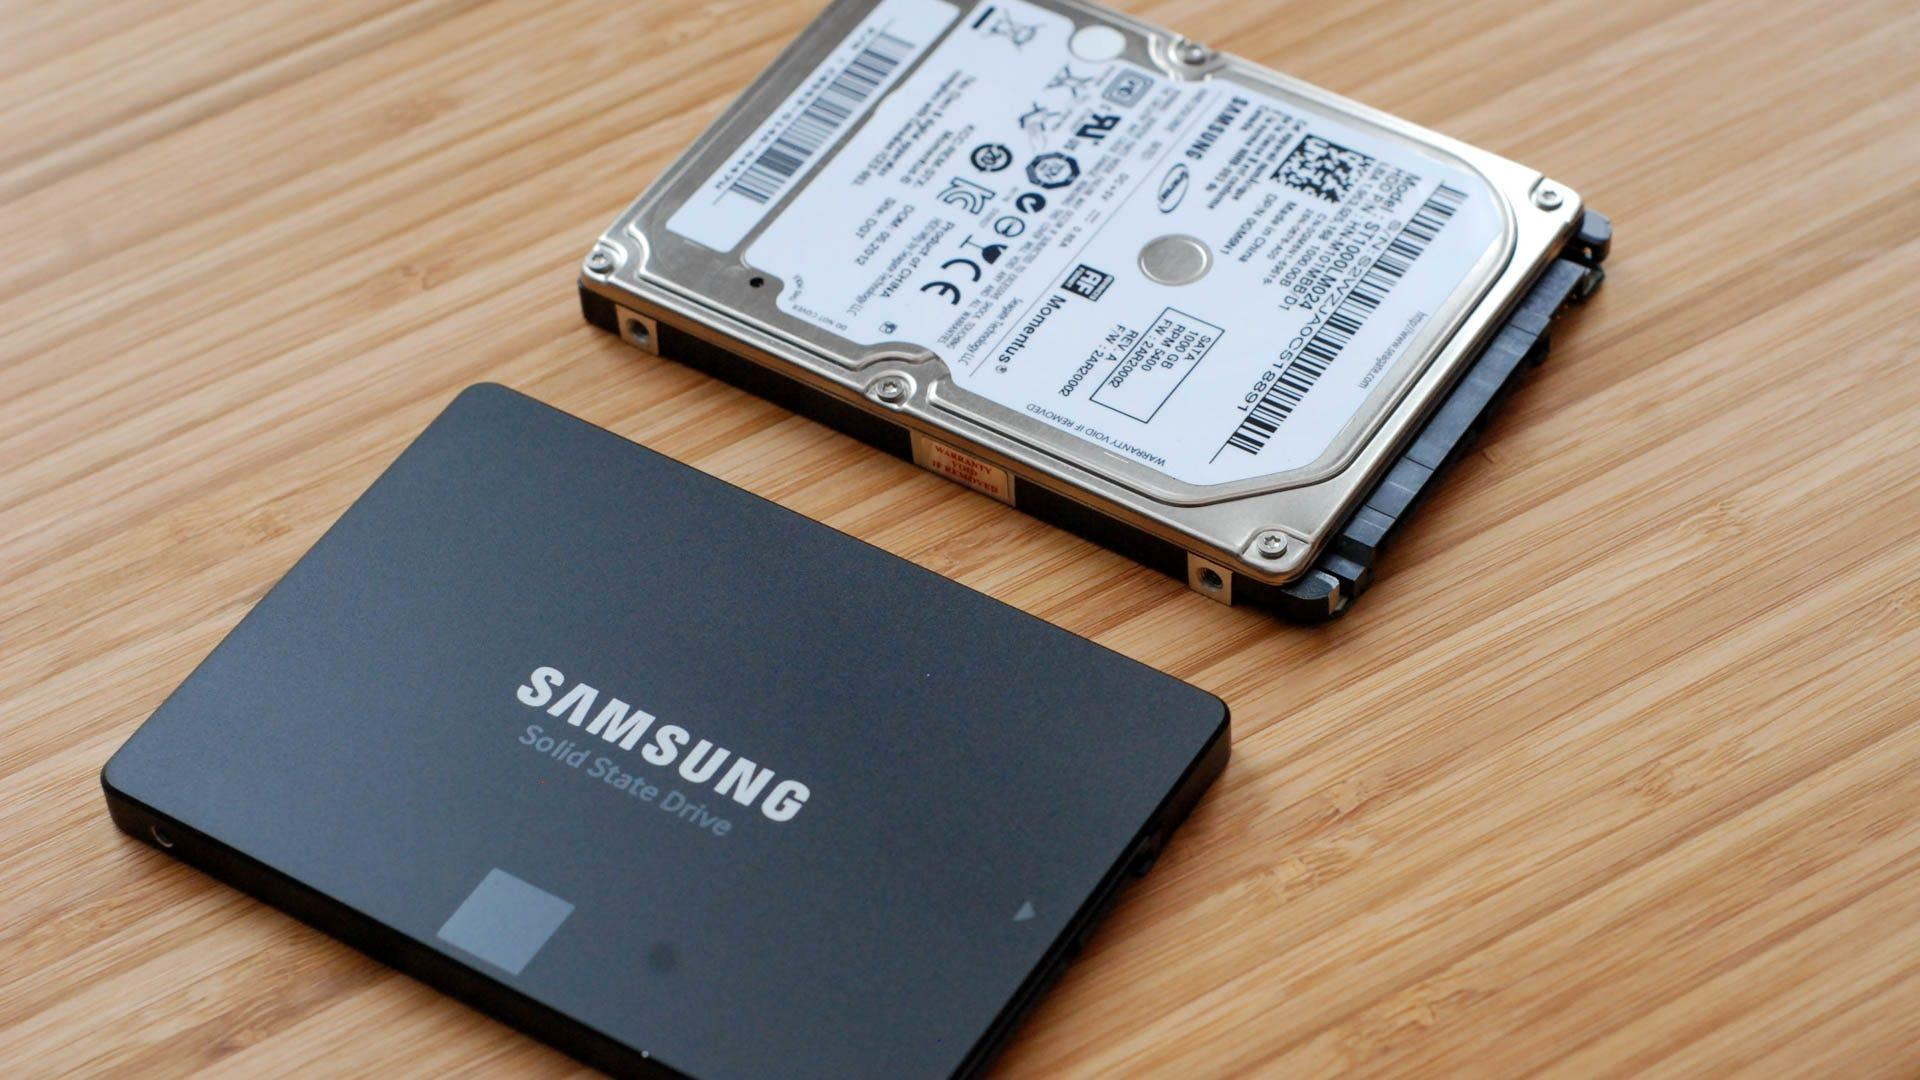internal HDD: (571, 0, 1611, 630)
